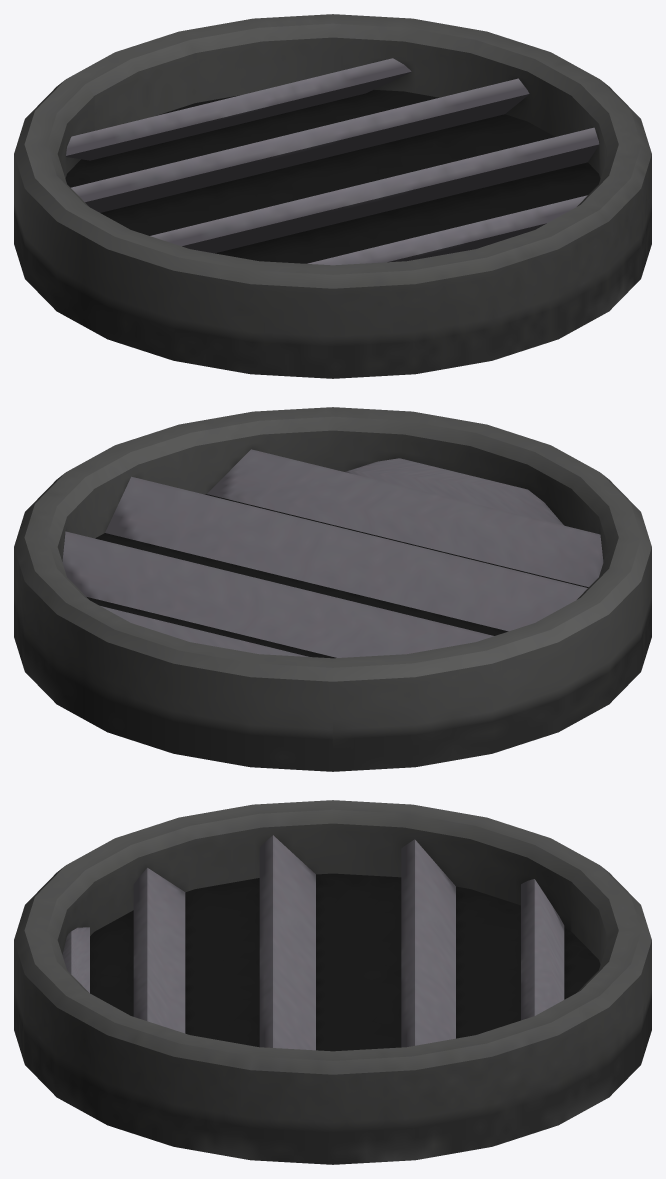
The model's file is RoundPodium.glb.
3 views of the same model, one above another, from view 1: azimuth 30°, elevation 25°; view 2: azimuth 150°, elevation 25°; view 3: azimuth 270°, elevation 25° (orthographic).
Parts seen in each view (by area): view 1: Cylinder.035; view 2: Cylinder.035; view 3: Cylinder.035.
Boxes of the visible parts, left/top/right/bottom form: Cylinder.035: left=14, top=14, right=651, bottom=378; Cylinder.035: left=14, top=407, right=651, bottom=771; Cylinder.035: left=14, top=800, right=651, bottom=1164.
Bounding box in the file's own units: 2.89 × 0.4973 × 2.89.
1 material, 1 textured.
